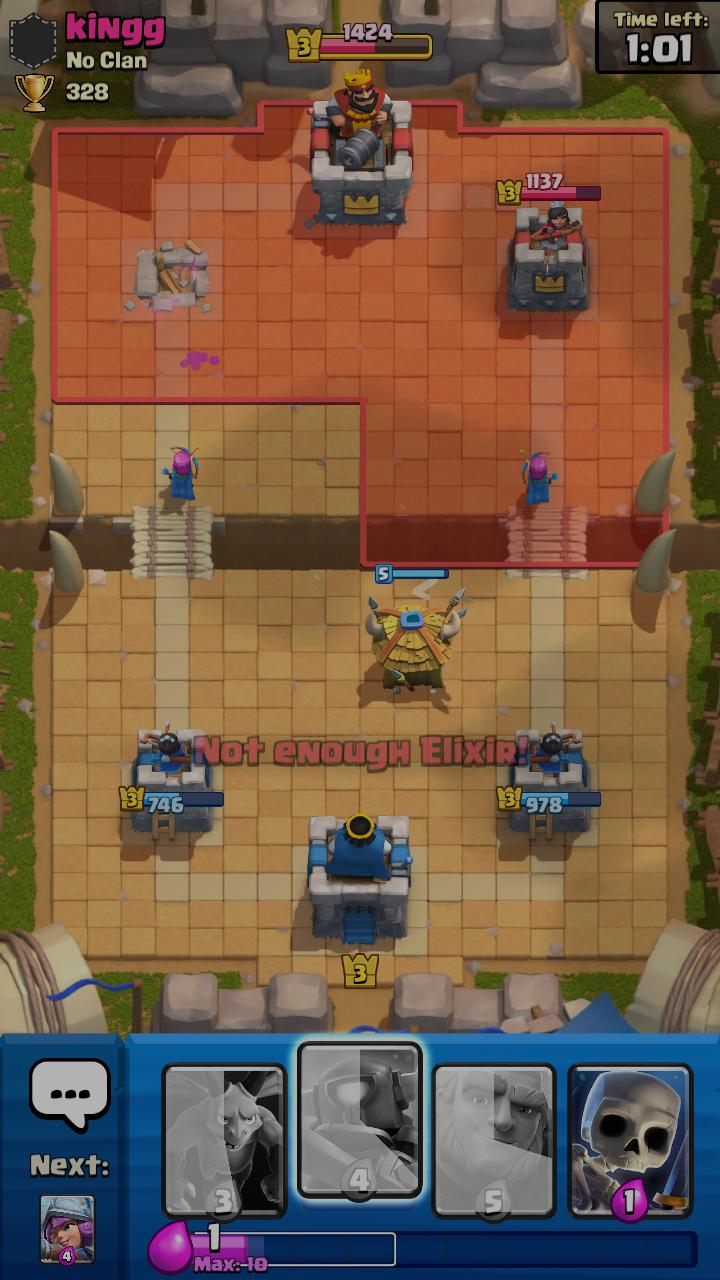ally: (365, 564, 468, 694), (161, 444, 201, 501), (521, 449, 559, 505)
